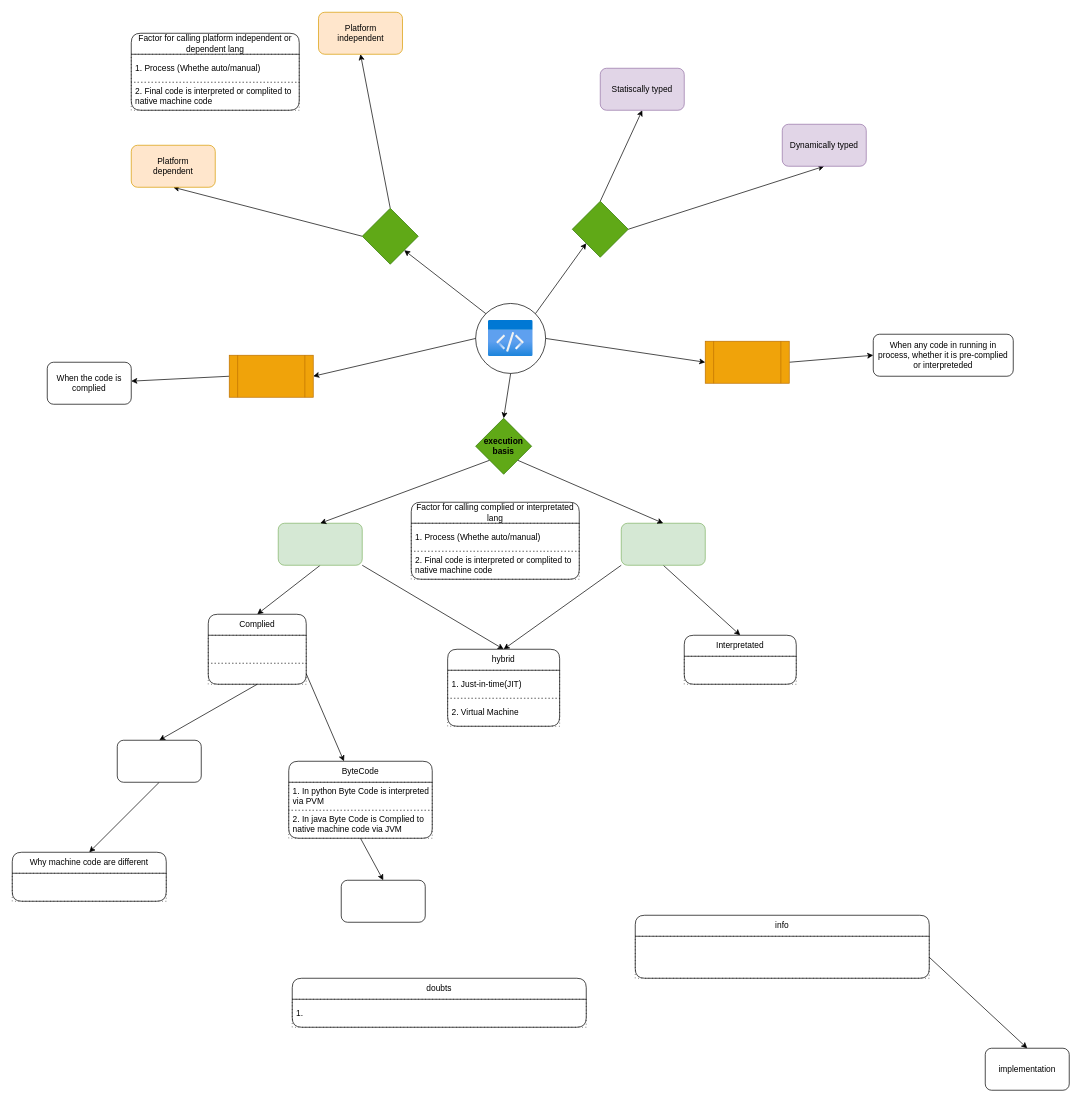
The diagram is 1082 pixels wide and 1103 high, and some of its shapes have lost their labels. Each missing label, with the centre of its shape:
1. Complied to native machine code(AOT): [257,649]
1. Due to different ISA: [89,887]
1. These are pre-complied code machine code: [740,670]
2. Complied to bytecode: [257,673]
Byte code indepence depends on VM: [383,901]
Compilation: Implicit vs. Explicit: [782,957]
Compile time: [271,376]
Compile to binary????: [159,761]
Complied code(c, c++ etc): [320,544]
Interpretated code(node.js, python etc): [663,544]
platform basis: [390,236]
Runtime time: [747,362]
typing basis: [600,229]
